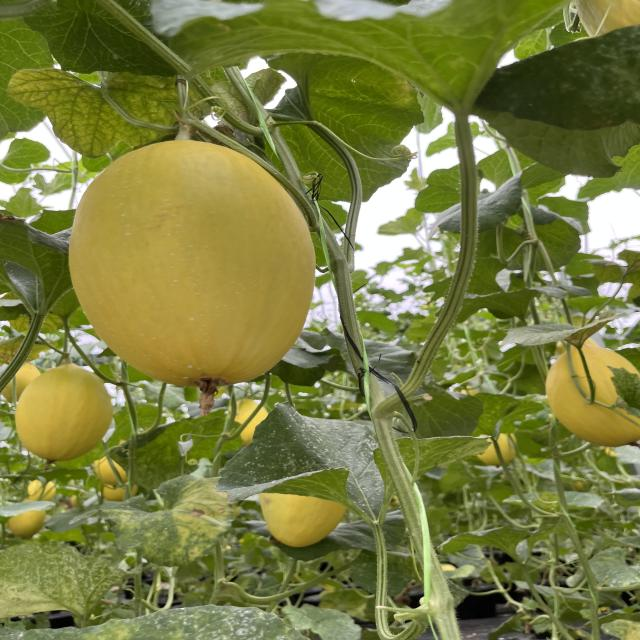SLCV: (500, 309, 636, 350)
downy mildew: (12, 64, 212, 156), (0, 542, 138, 619), (207, 68, 289, 145)
healthy: (148, 0, 585, 108), (436, 161, 570, 234), (0, 216, 83, 314)
powdery mildew: (216, 401, 493, 520), (474, 21, 640, 181), (17, 601, 320, 640)
